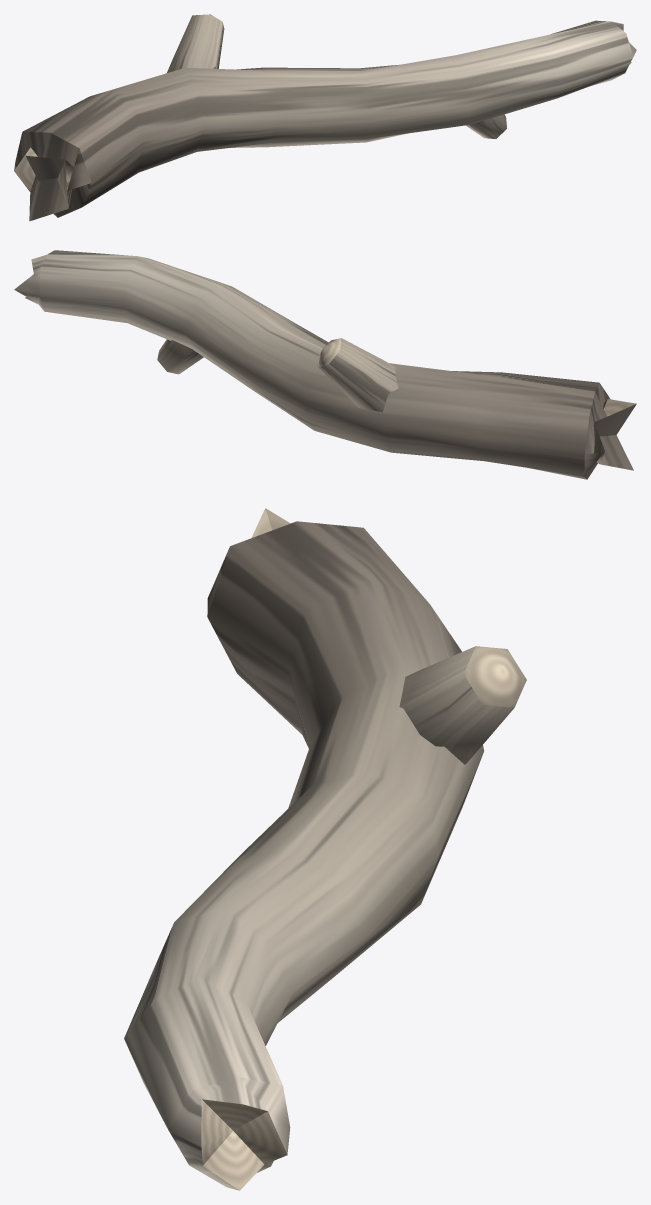
File: Driftwood_Log_01.fbx
3 renders of one model, top to bottom at view 1: azimuth 30°, elevation 25°; view 2: azimuth 150°, elevation 25°; view 3: azimuth 270°, elevation 25°, orthographic. The views are drawn at different scales.
Visible parts, largest first — view 1: Driftwood_Log_01; view 2: Driftwood_Log_01; view 3: Driftwood_Log_01.
Part boxes in pixels (x1,y1,x2,y2): Driftwood_Log_01: [14, 14, 636, 221]; Driftwood_Log_01: [14, 250, 636, 479]; Driftwood_Log_01: [124, 508, 526, 1190].
Bounding box in the file's own units: 2.44 × 0.5142 × 0.7087.
Materials: 1 (1 with a texture image).
